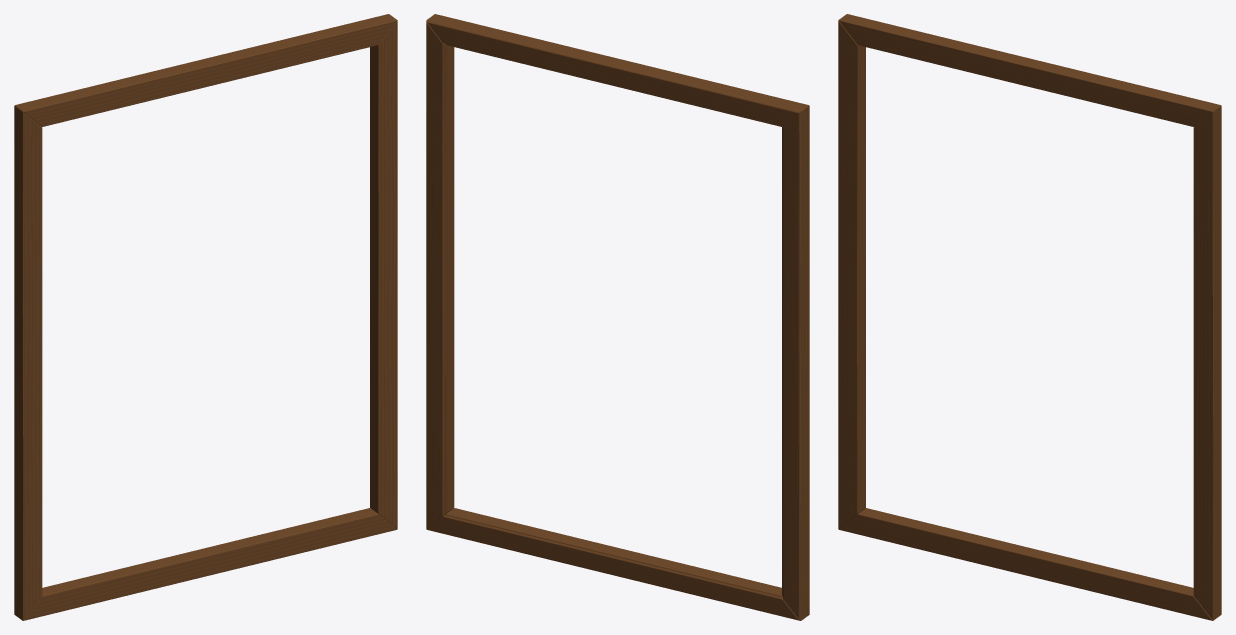
3 views of the same model, side by side, from view 1: azimuth 30°, elevation 25°; view 2: azimuth 150°, elevation 25°; view 3: azimuth 330°, elevation 25° (orthographic).
Visible parts, largest first — view 1: Moulding_left, Moulding_right, Moulding_top, Moulding_bottom; view 2: Moulding_right, Moulding_left, Moulding_top, Moulding_bottom; view 3: Moulding_right, Moulding_left, Moulding_top, Moulding_bottom.
Part boxes in pixels (x1,y1,x2,y2): Moulding_left: (14, 105, 42, 620); Moulding_right: (370, 20, 397, 529); Moulding_top: (15, 14, 397, 126); Moulding_bottom: (23, 508, 396, 620); Moulding_right: (426, 20, 454, 529); Moulding_left: (782, 105, 809, 620); Moulding_top: (426, 14, 808, 126); Moulding_bottom: (427, 508, 800, 620); Moulding_right: (1193, 105, 1221, 620); Moulding_left: (838, 20, 865, 529); Moulding_top: (838, 14, 1220, 126); Moulding_bottom: (839, 508, 1212, 620).
Size of the model in its own units: 0.67 by 0.87 by 0.03.
1 material, 1 textured.
